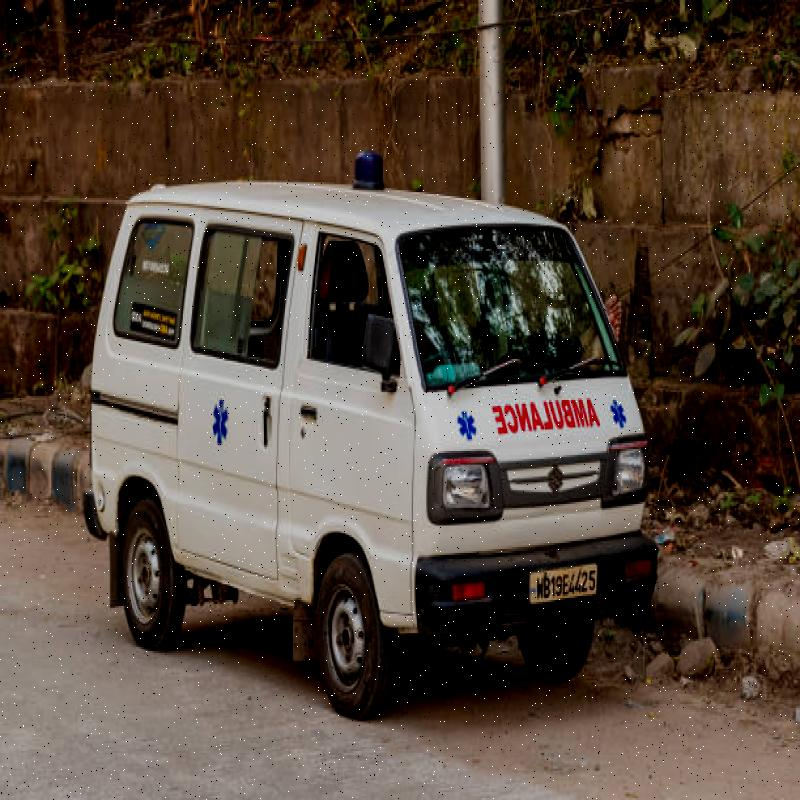AmbulanceSiren: (347, 136, 396, 210)
